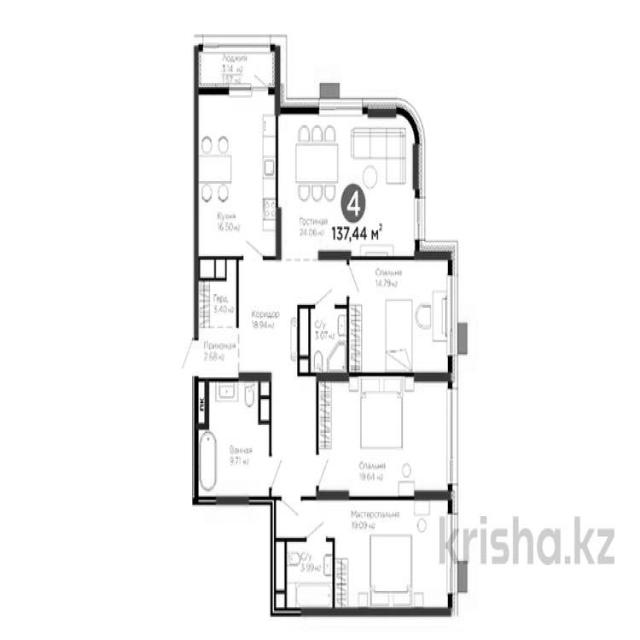balcony: (196, 381, 271, 501), (273, 538, 334, 612), (197, 47, 277, 92), (308, 305, 348, 375)
hallway: (238, 261, 301, 374), (196, 326, 238, 382)
kitchen: (196, 92, 278, 258)
living_room: (278, 111, 424, 255), (318, 376, 458, 496), (336, 498, 452, 610), (346, 258, 455, 374)
